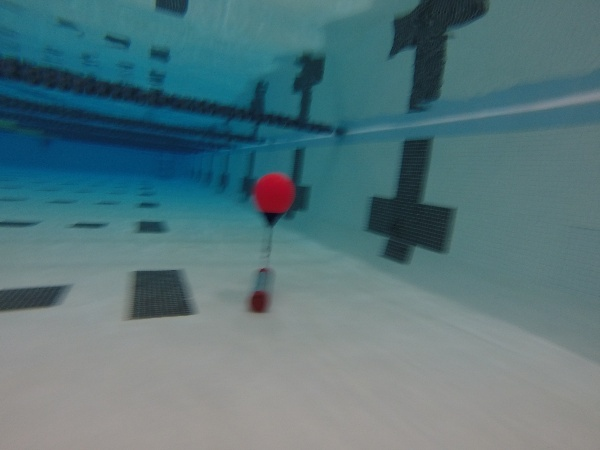buoy_red: (250, 171, 294, 230)
